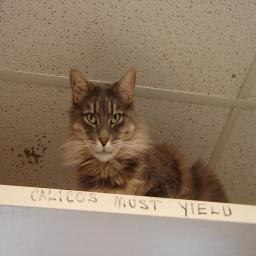catnose: (97, 134, 110, 146)
